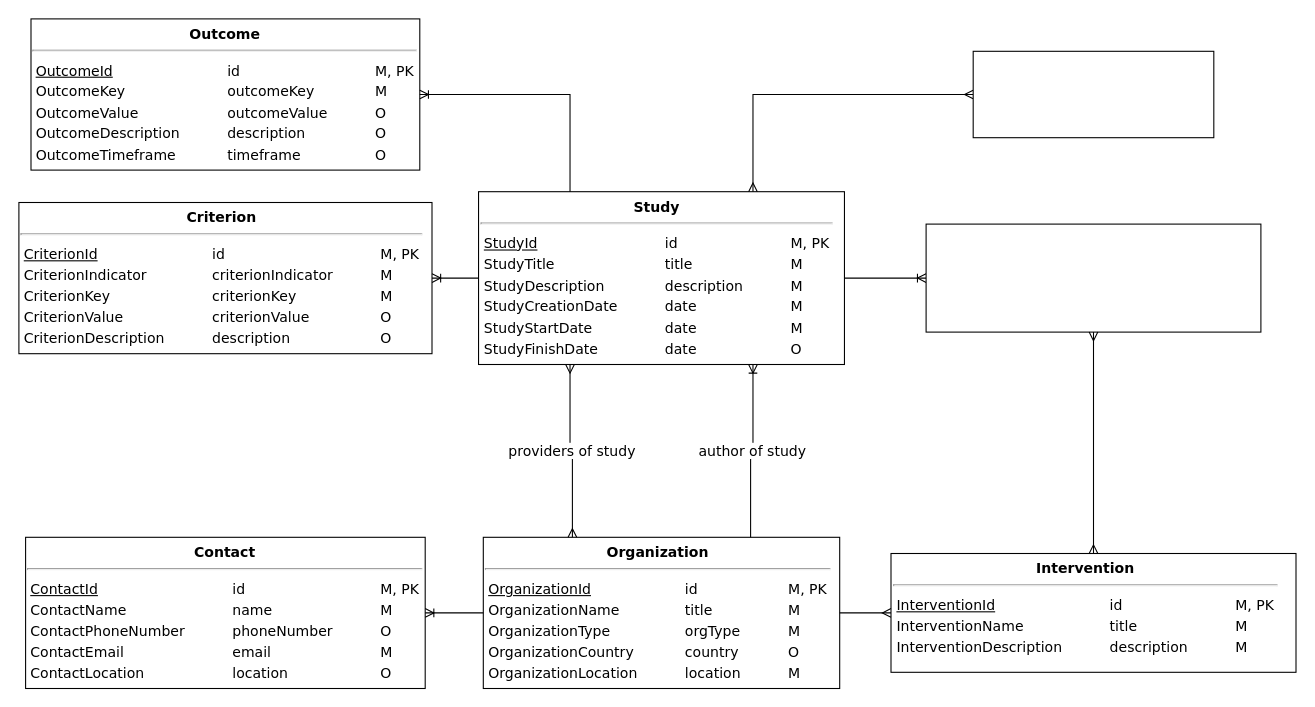
Some shapes in this 1315 by 707 pixel diagram are drawn without their labels. The shapes that lost their labels are listed below. From the top down, each one's centre as x and y in pixels, then its label:
point (1093, 94): Tag TagId id M, PK TagName tag M, K1
point (1093, 277): Arm ArmId id M, PK ArmName title M ArmDescription description M
